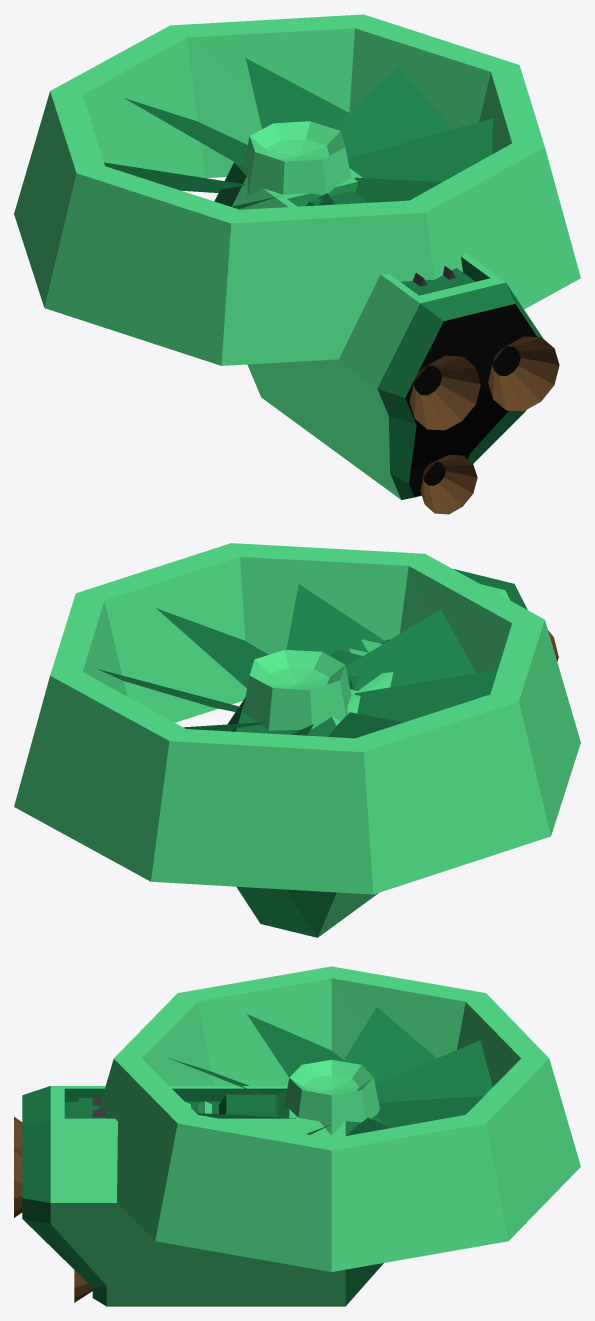
The model's file is fan.FBX.
3 views of the same model, one above another, from view 1: azimuth 30°, elevation 25°; view 2: azimuth 150°, elevation 25°; view 3: azimuth 270°, elevation 25° (orthographic). The views are drawn at different scales.
Visible parts, largest first — view 1: VIFS007, VIFS008, VIFS003, VIFS001, VIFS004, VIFS005, VIFS006; view 2: VIFS007, VIFS008, VIFS001, VIFS003; view 3: VIFS007, VIFS003, VIFS008, VIFS001, VIFS004.
Part boxes in pixels (x1,y1,x2,y2): VIFS007: [14, 14, 580, 365]; VIFS008: [104, 58, 492, 209]; VIFS003: [232, 168, 505, 499]; VIFS001: [214, 162, 543, 499]; VIFS004: [409, 336, 559, 514]; VIFS005: [405, 304, 536, 496]; VIFS006: [414, 346, 520, 485]; VIFS007: [14, 543, 580, 894]; VIFS008: [97, 584, 497, 738]; VIFS001: [227, 569, 527, 937]; VIFS003: [318, 584, 510, 937]; VIFS007: [99, 966, 580, 1271]; VIFS003: [50, 1086, 345, 1306]; VIFS008: [168, 1007, 492, 1135]; VIFS001: [22, 1086, 385, 1306]; VIFS004: [14, 1117, 92, 1302].
Size of the model in its own units: 0.71 by 0.381 by 0.807.
